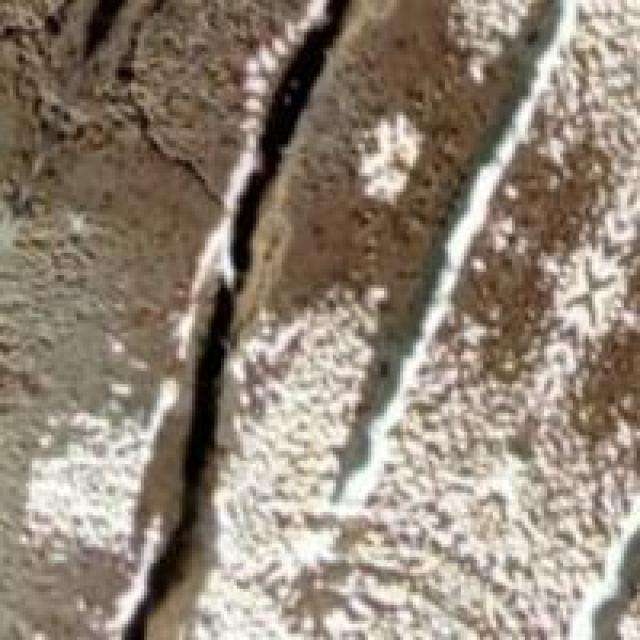Crack: (112, 0, 442, 627)
